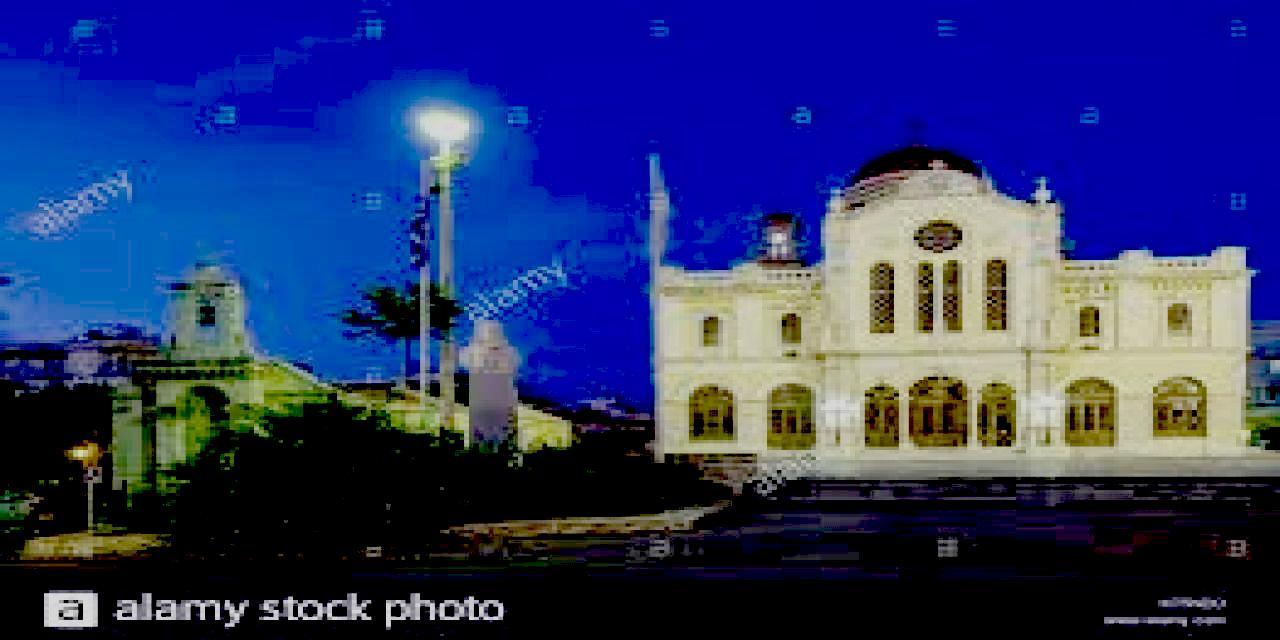Agios Minas: (646, 124, 1255, 467)
